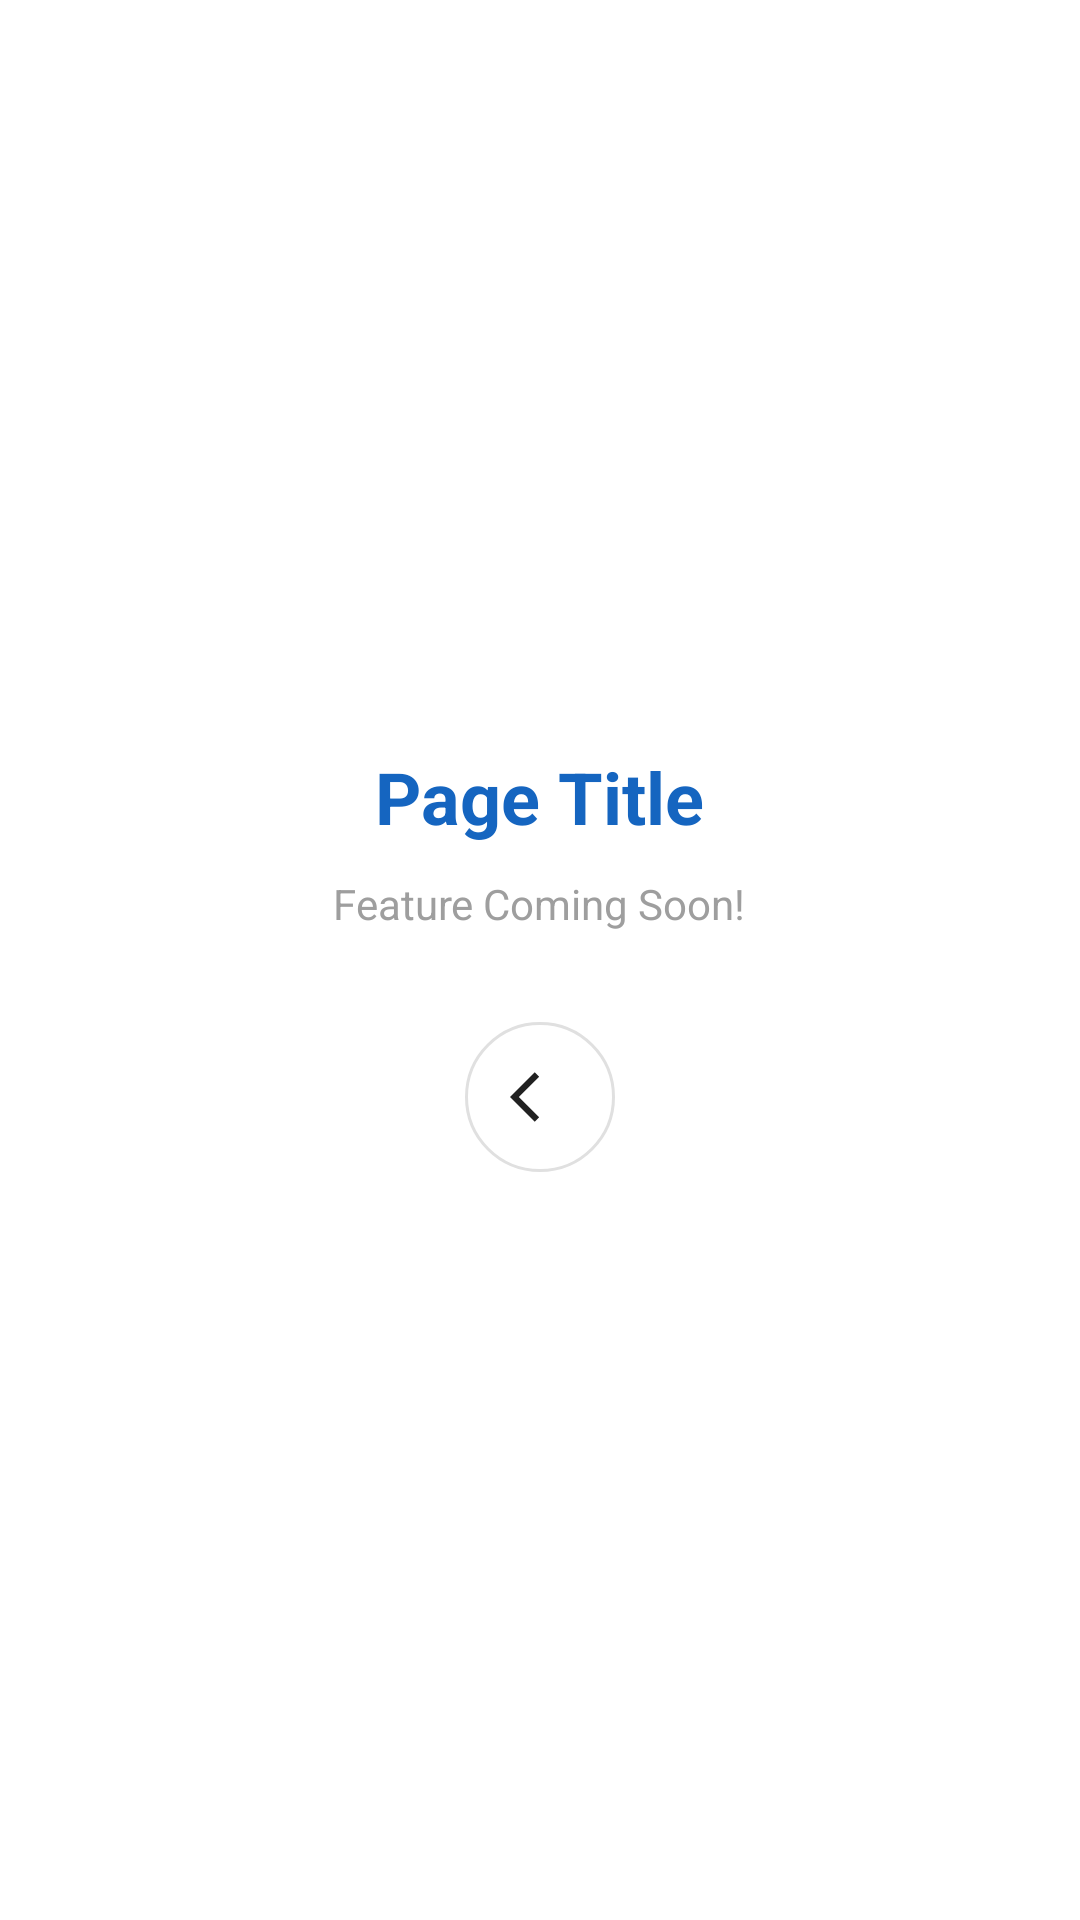

Where to tap for icons on this 1080 × 1920 app screen, as point (x, y):
back: point (540, 1097)
